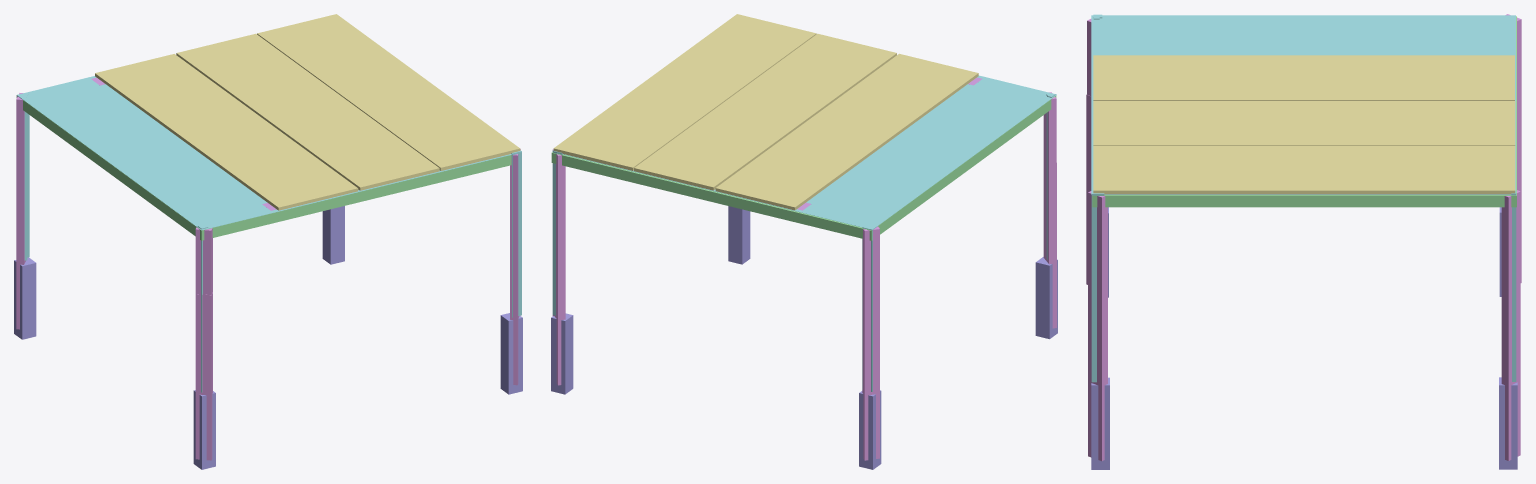
Rendered from shelter.glb.
3 views of the same model, side by side, from view 1: azimuth 30°, elevation 25°; view 2: azimuth 150°, elevation 25°; view 3: azimuth 270°, elevation 25° (orthographic). The views are drawn at different scales.
Visible parts, largest first — view 1: S5|SM_SV_Shelter_Stage5#0, S3|SM_Shelter_Plate#1, S4|SM_Shelter_Plate#2, S3|SM_Shelter_Plate#0, S6|SM_SV_Shelter_FoundationPlaceholder#0, S3|SM_SV_Shelter_Framing#0, S1|SM_Shelter_Pillar#3, S2|SM_Shelter_Pillar#0, S1|SM_Shelter_Pillar#2, S2|SM_Shelter_Pillar#2, S2|SM_Shelter_Pillar#3, S1|SM_Shelter_Pillar#0; view 2: S5|SM_SV_Shelter_Stage5#0, S3|SM_Shelter_Plate#1, S4|SM_Shelter_Plate#2, S3|SM_Shelter_Plate#0, S3|SM_SV_Shelter_Framing#0, S6|SM_SV_Shelter_FoundationPlaceholder#0, S1|SM_Shelter_Pillar#0, S2|SM_Shelter_Pillar#3, S2|SM_Shelter_Pillar#0, S1|SM_Shelter_Pillar#1, S2|SM_Shelter_Pillar#1; view 3: S3|SM_Shelter_Plate#0, S5|SM_SV_Shelter_Stage5#0, S3|SM_Shelter_Plate#1, S4|SM_Shelter_Plate#2, S3|SM_SV_Shelter_Framing#0, S6|SM_SV_Shelter_FoundationPlaceholder#0, S1|SM_Shelter_Pillar#1, S1|SM_Shelter_Pillar#2, S2|SM_Shelter_Pillar#1, S2|SM_Shelter_Pillar#2, S1|SM_Shelter_Pillar#3, S2|SM_Shelter_Pillar#0 (+1 smaller).
Part boxes in pixels (box(x1,y1,x2,y2)): S5|SM_SV_Shelter_Stage5#0: box(17, 76, 521, 392); S3|SM_Shelter_Plate#1: box(95, 54, 358, 210); S4|SM_Shelter_Plate#2: box(176, 33, 439, 190); S3|SM_Shelter_Plate#0: box(257, 14, 520, 170); S6|SM_SV_Shelter_FoundationPlaceholder#0: box(14, 206, 522, 469); S3|SM_SV_Shelter_Framing#0: box(16, 95, 511, 240); S1|SM_Shelter_Pillar#3: box(195, 292, 212, 460); S2|SM_Shelter_Pillar#0: box(16, 93, 25, 264); S1|SM_Shelter_Pillar#2: box(510, 219, 519, 385); S2|SM_Shelter_Pillar#2: box(510, 149, 520, 320); S2|SM_Shelter_Pillar#3: box(195, 227, 212, 294); S1|SM_Shelter_Pillar#0: box(16, 164, 25, 329); S5|SM_SV_Shelter_Stage5#0: box(552, 75, 1056, 391); S3|SM_Shelter_Plate#1: box(715, 53, 978, 210); S4|SM_Shelter_Plate#2: box(634, 33, 896, 190); S3|SM_Shelter_Plate#0: box(553, 14, 816, 170); S3|SM_SV_Shelter_Framing#0: box(551, 96, 1056, 240); S6|SM_SV_Shelter_FoundationPlaceholder#0: box(551, 206, 1057, 469); S1|SM_Shelter_Pillar#0: box(862, 293, 879, 460); S2|SM_Shelter_Pillar#3: box(1043, 92, 1056, 264); S2|SM_Shelter_Pillar#0: box(862, 226, 879, 395); S1|SM_Shelter_Pillar#1: box(552, 218, 565, 385); S2|SM_Shelter_Pillar#1: box(552, 149, 565, 298); S3|SM_Shelter_Plate#0: box(1093, 146, 1515, 194); S5|SM_SV_Shelter_Stage5#0: box(1091, 14, 1516, 382); S3|SM_Shelter_Plate#1: box(1093, 55, 1514, 100); S4|SM_Shelter_Plate#2: box(1093, 101, 1515, 145); S3|SM_SV_Shelter_Framing#0: box(1092, 16, 1516, 207); S6|SM_SV_Shelter_FoundationPlaceholder#0: box(1091, 207, 1517, 469); S1|SM_Shelter_Pillar#1: box(1501, 266, 1520, 460); S1|SM_Shelter_Pillar#2: box(1088, 267, 1107, 461); S2|SM_Shelter_Pillar#1: box(1501, 190, 1520, 386); S2|SM_Shelter_Pillar#2: box(1088, 191, 1107, 386); S1|SM_Shelter_Pillar#3: box(1086, 94, 1091, 284); S2|SM_Shelter_Pillar#0: box(1505, 14, 1521, 206).
Size of the model in its own units: 9.32 by 6.59 by 9.33.
